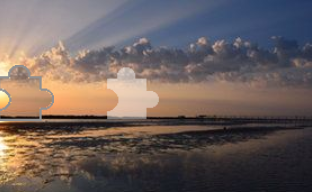target: (104, 65, 160, 124)
